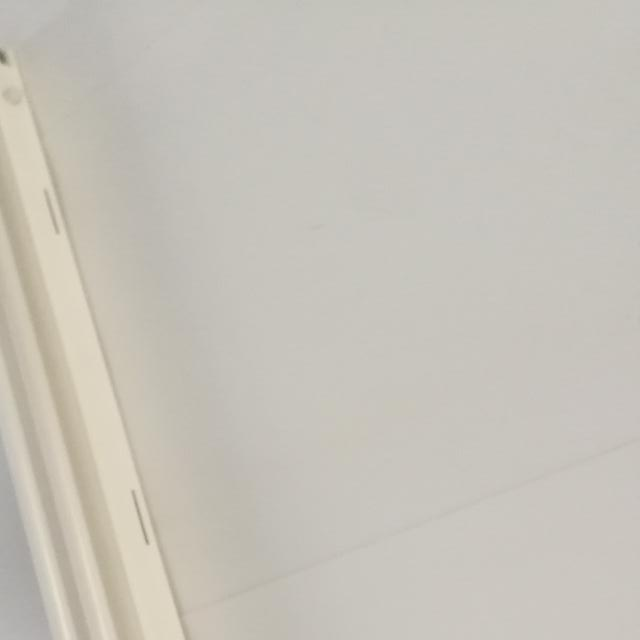fluorescent tube: (0, 29, 369, 640)
